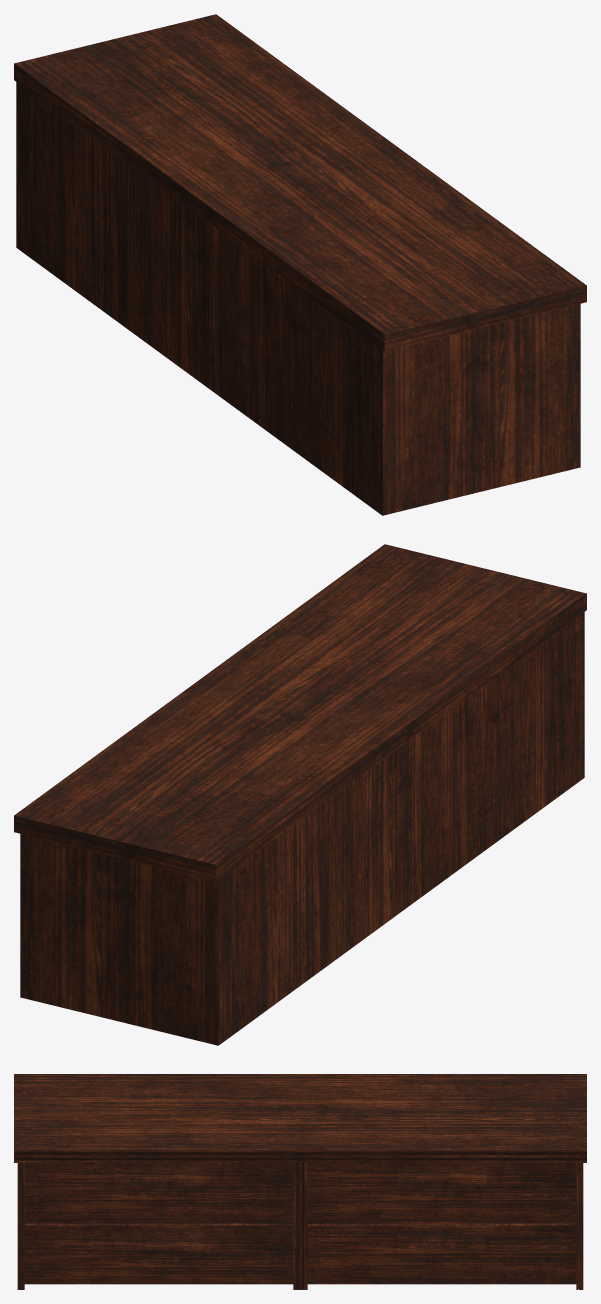
File: Dresser.fbx
3 views of the same model, one above another, from view 1: azimuth 30°, elevation 25°; view 2: azimuth 150°, elevation 25°; view 3: azimuth 270°, elevation 25° (orthographic). The views are drawn at different scales.
Parts seen in each view (by area): view 1: Cube; view 2: Cube; view 3: Cube, Plane.003, Plane.002, Plane, Plane.001.
Boxes of the visible parts, box(x1,y1,x2,y2) form: Cube: box(14, 14, 586, 515); Cube: box(14, 544, 586, 1045); Cube: box(14, 1074, 586, 1289); Plane.003: box(307, 1223, 576, 1283); Plane.002: box(24, 1223, 293, 1283); Plane: box(24, 1163, 293, 1219); Plane.001: box(307, 1163, 576, 1219).
Size of the model in its own units: 128 by 110 by 405.
